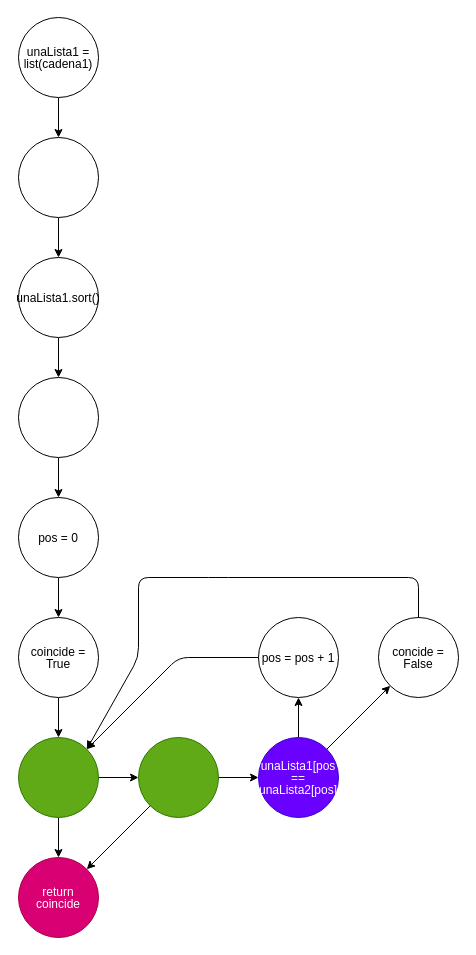
The diagram is 476 pixels wide and 955 high, and some of its shapes have lost their labels. Each missing label, with the centre of its shape:
"coincide == True" belongs at (178,777).
"pos < len(cadena1)" belongs at (58,777).
"unaLista2 = list(cadena2)" belongs at (58,177).
"unaLista2.sort()" belongs at (58,417).
